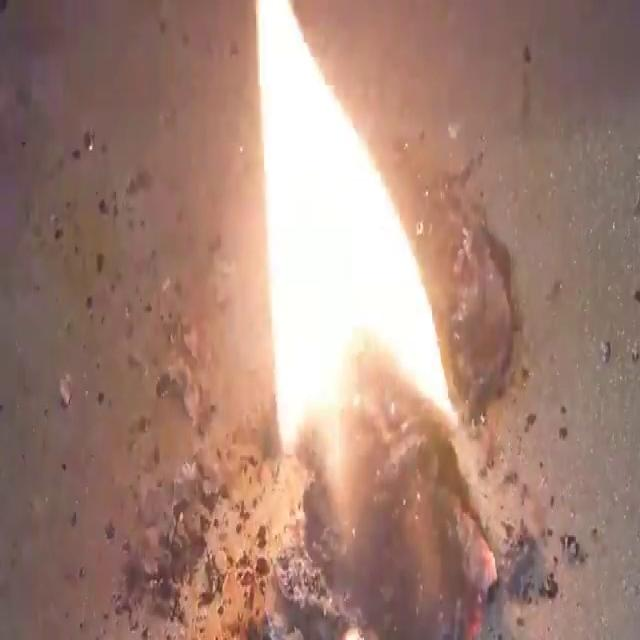Fire: (252, 2, 456, 460)
